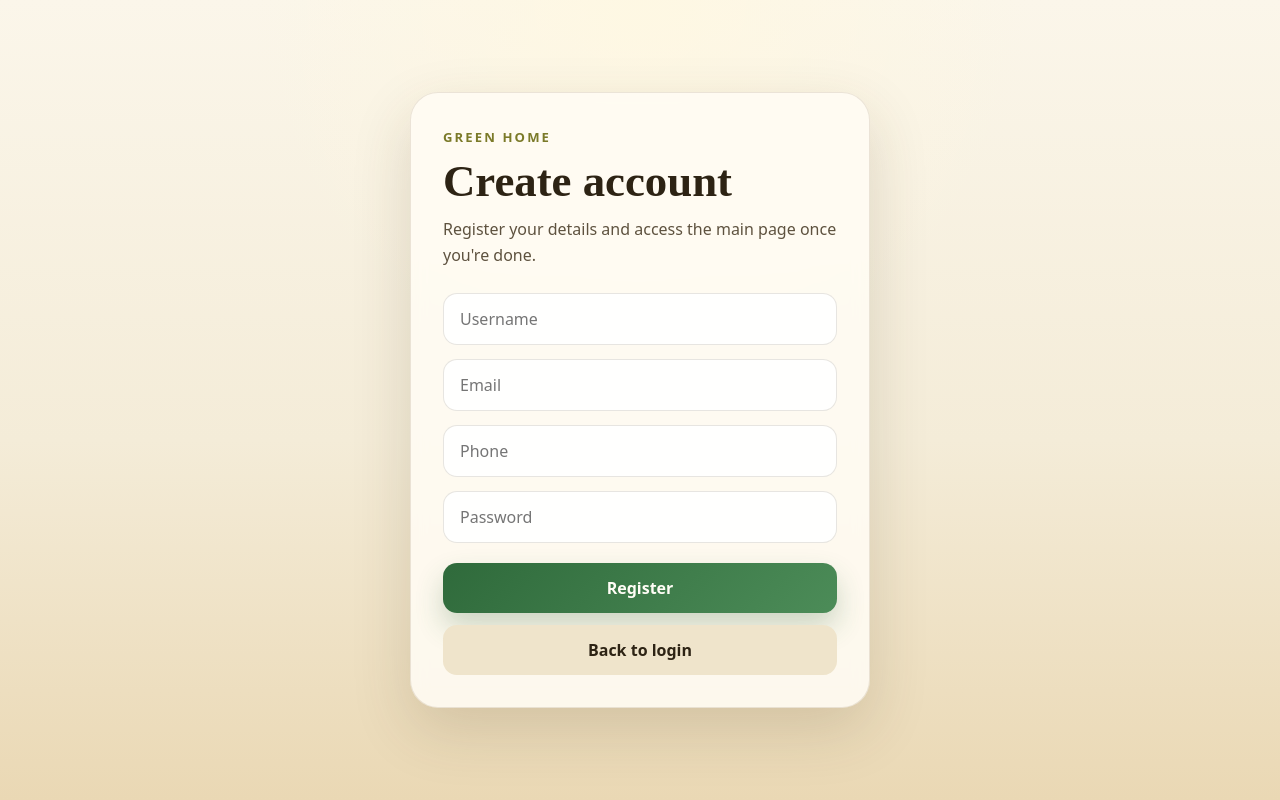
Register › shows server error message on failed registration
Click the button "Register" at point(640, 588), box [443,563,837,613]
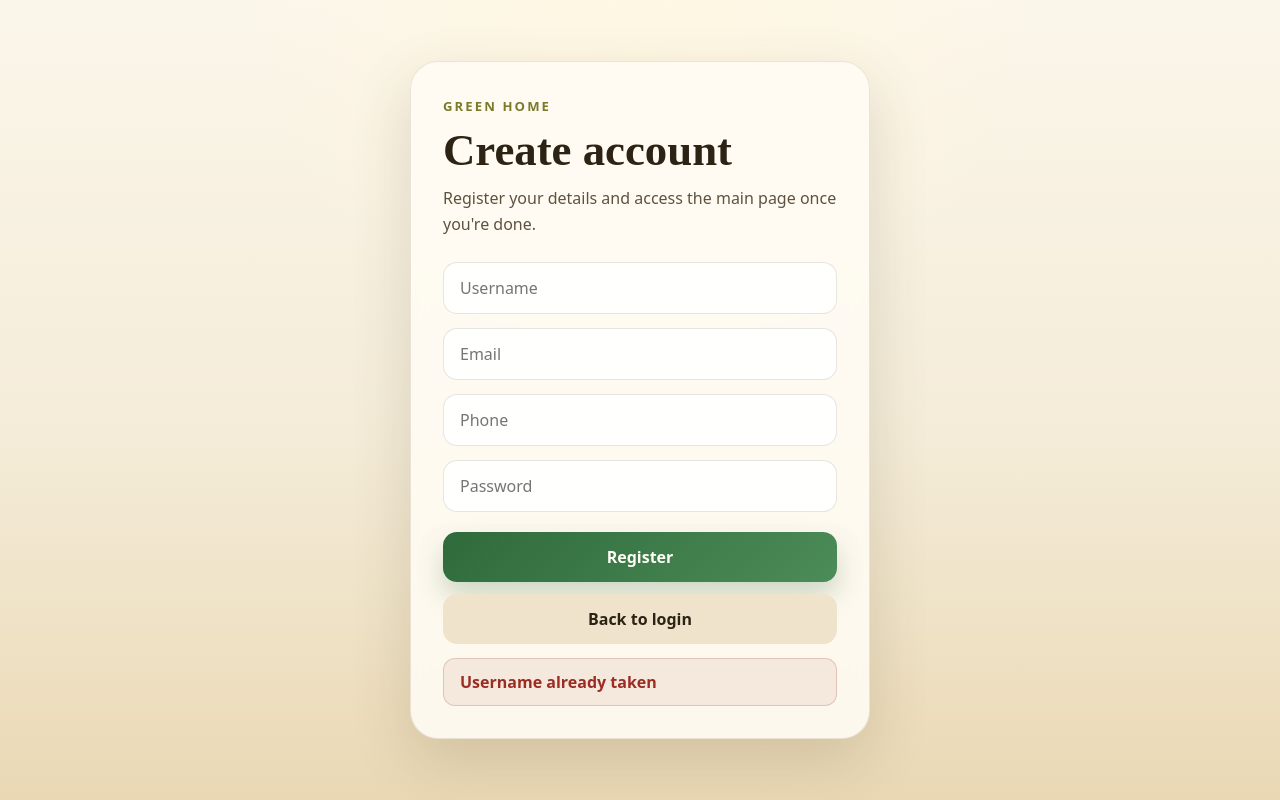
Result: the text "Username already taken" is shown at [443,658,837,706]
